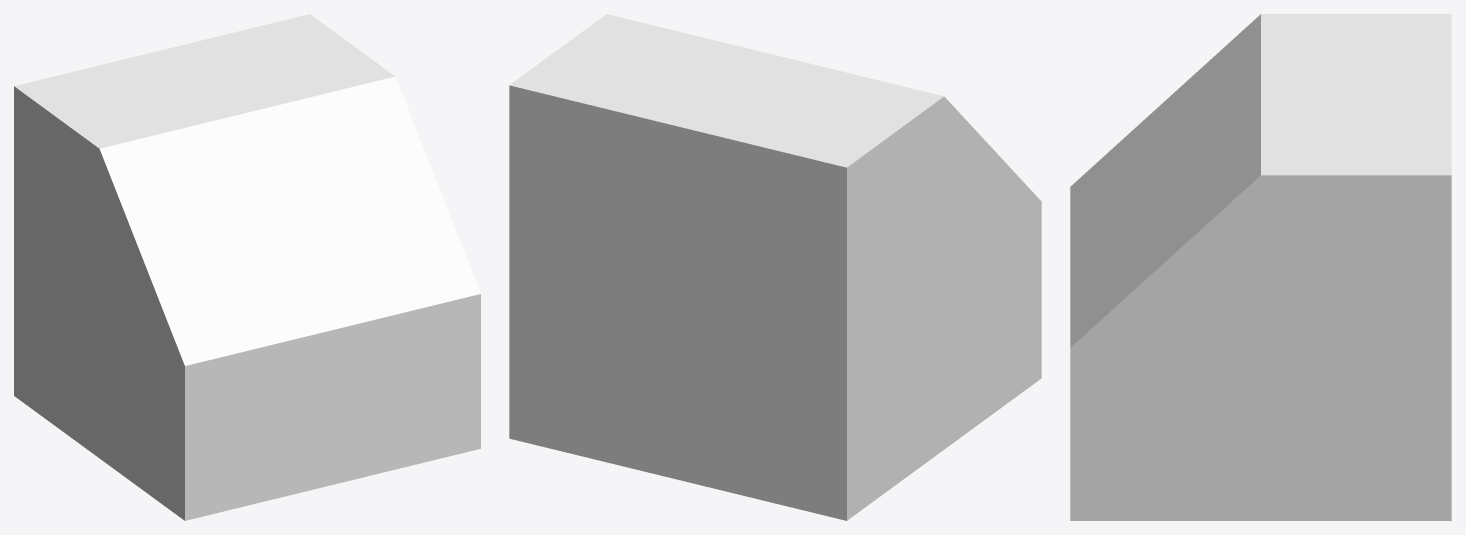
Rendered from r3c6_body_white.gltf.
The picture shows the model from 3 angles, left to right: view 1: azimuth 30°, elevation 25°; view 2: azimuth 150°, elevation 25°; view 3: azimuth 270°, elevation 25°; orthographic projection. The views are drawn at different scales.
Parts seen in each view (by area): view 1: r3c6_body_white; view 2: r3c6_body_white; view 3: r3c6_body_white.
Boxes of the visible parts, bbox=[...] form: r3c6_body_white: bbox=[14, 14, 480, 520]; r3c6_body_white: bbox=[509, 14, 1041, 520]; r3c6_body_white: bbox=[1070, 14, 1451, 520].
Size of what is drawn, in the model's own units: 2 by 2 by 2.
Materials: 1 (1 with a texture image).
